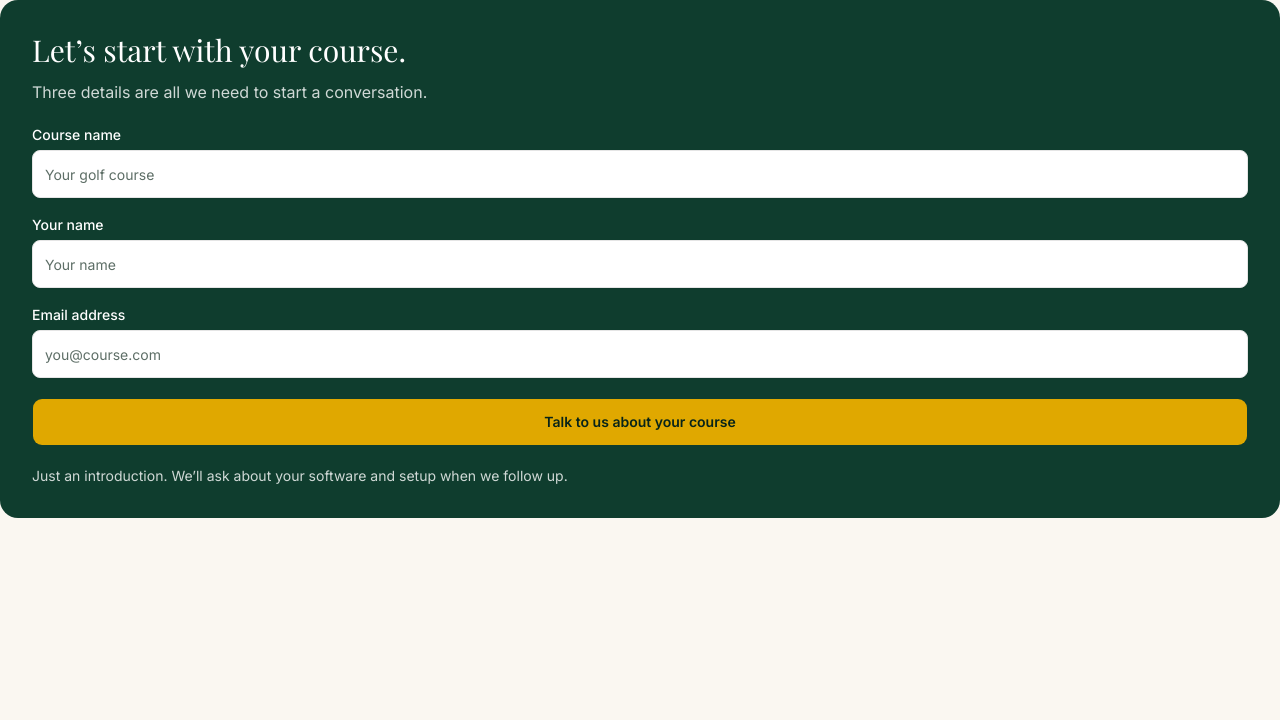
course introduction › submits three details and explains that no booking was made
Type "Test Golf Club" into the field labelled "Course name" at (640, 174), box [32,150,1248,198]
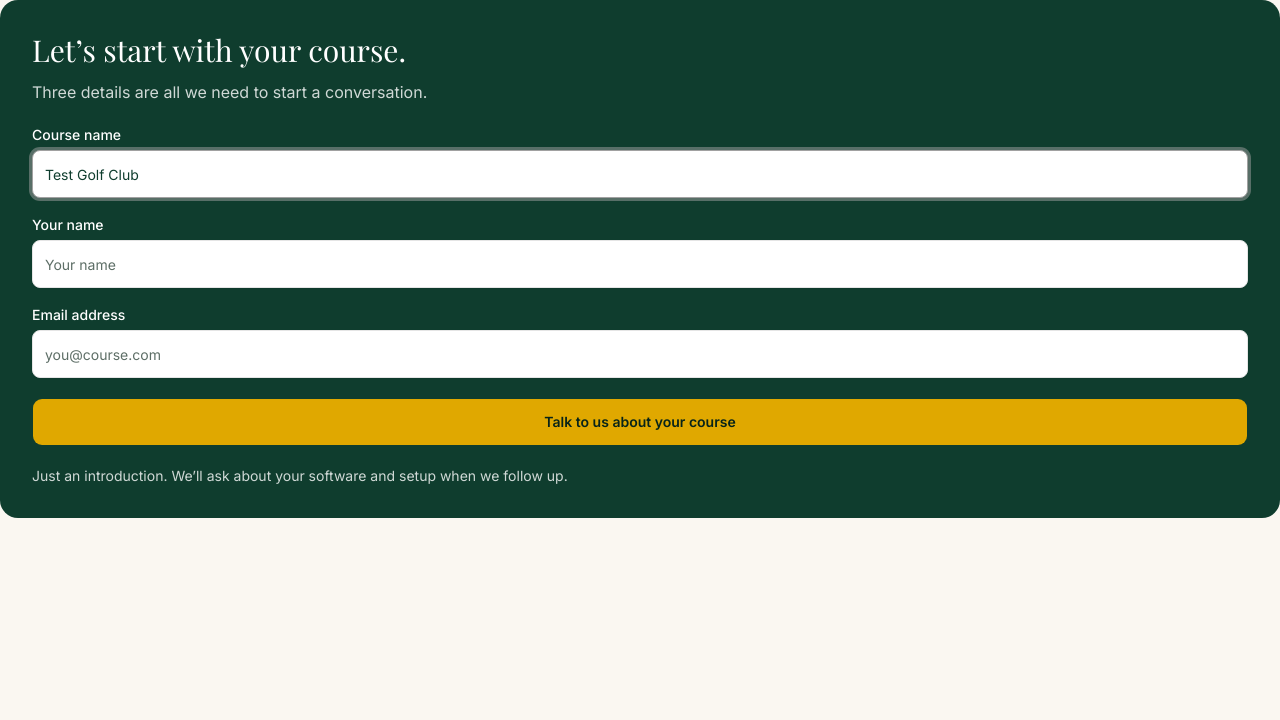
Type "Alex" into the field labelled "Your name" at (640, 264), box [32,240,1248,288]
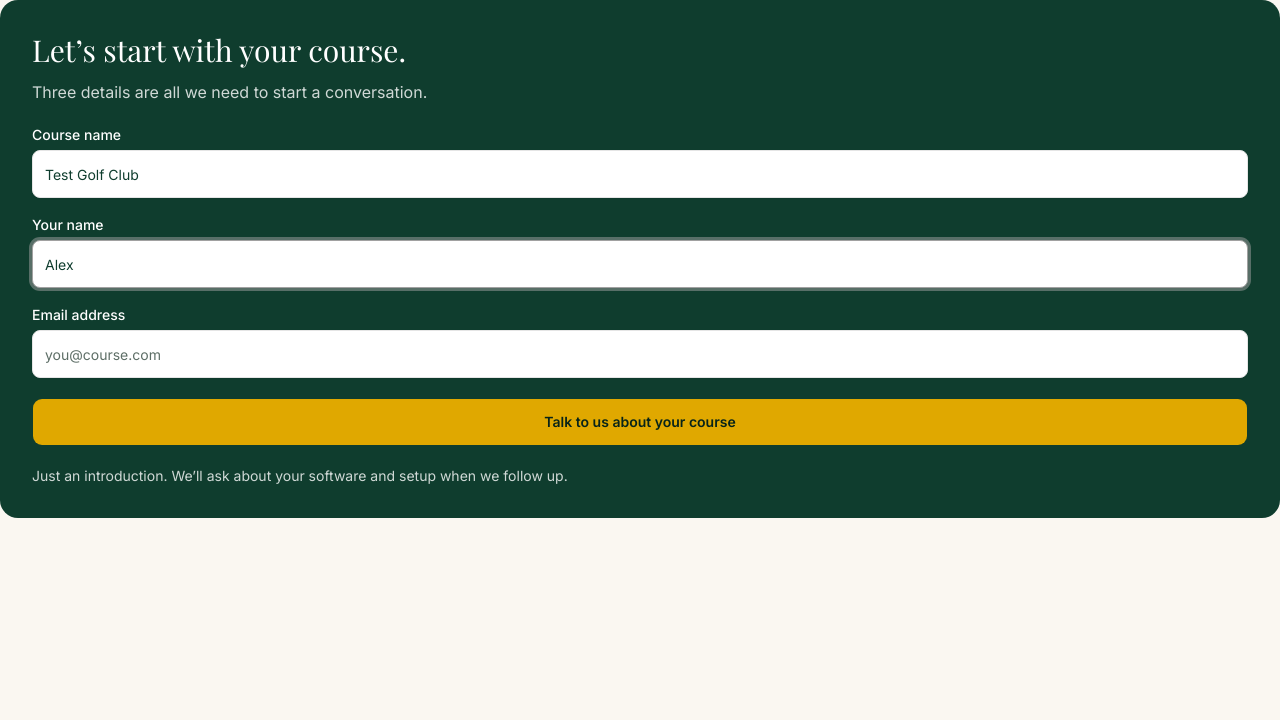
Type "alex@example.com" into the field labelled "Email address" at (640, 354), box [32,330,1248,378]
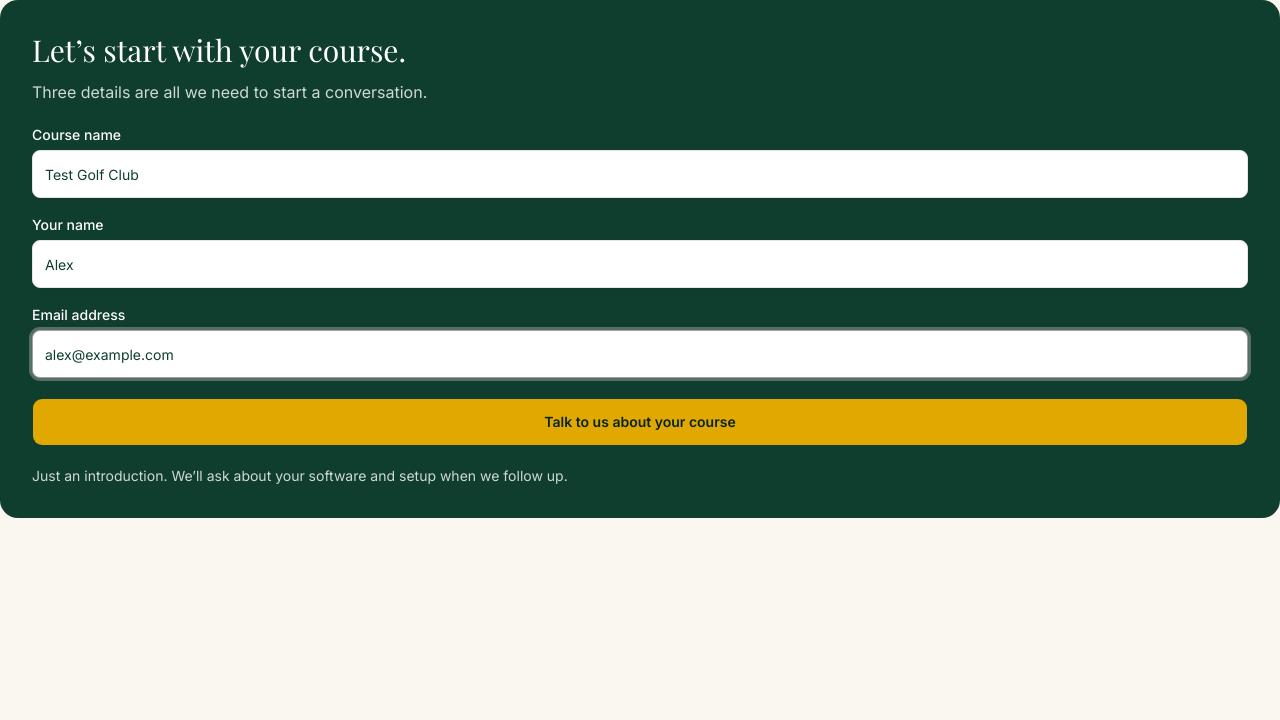
Click the button "Talk to us about your course" at (640, 422), box [32,398,1248,446]
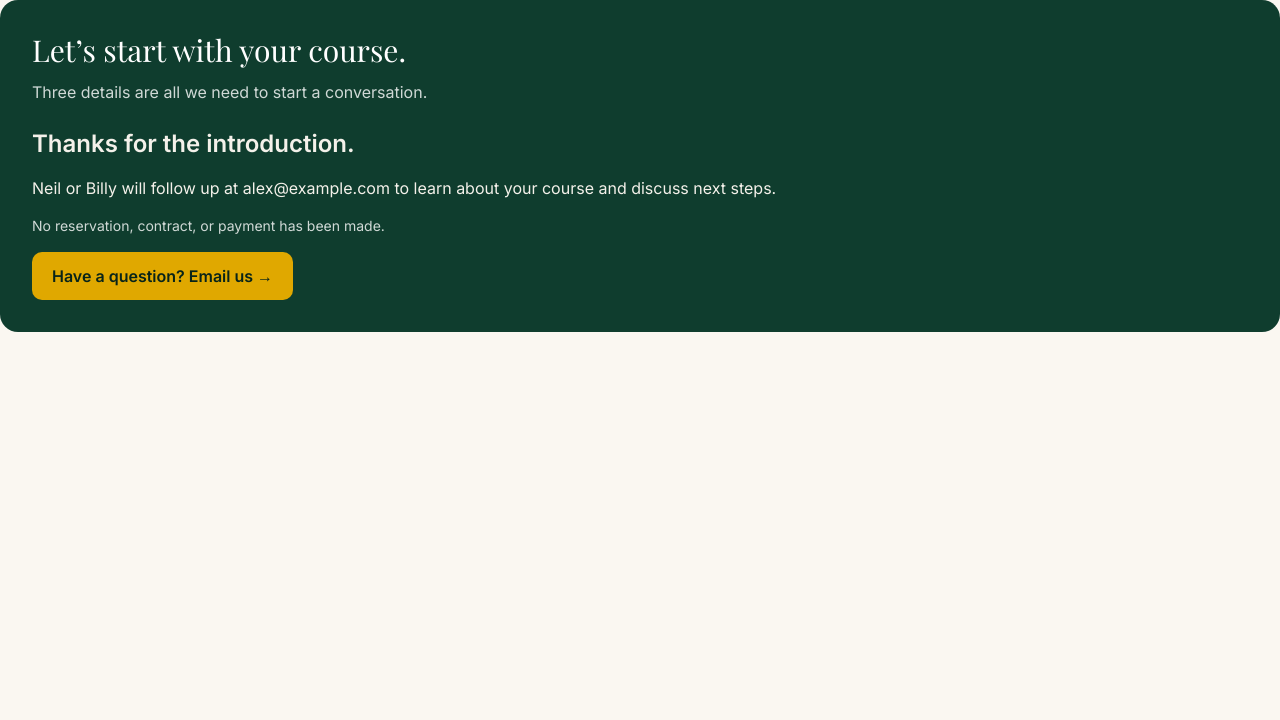
Expected: the message shows "No reservation, contract, or payment", [32,217,385,234]
